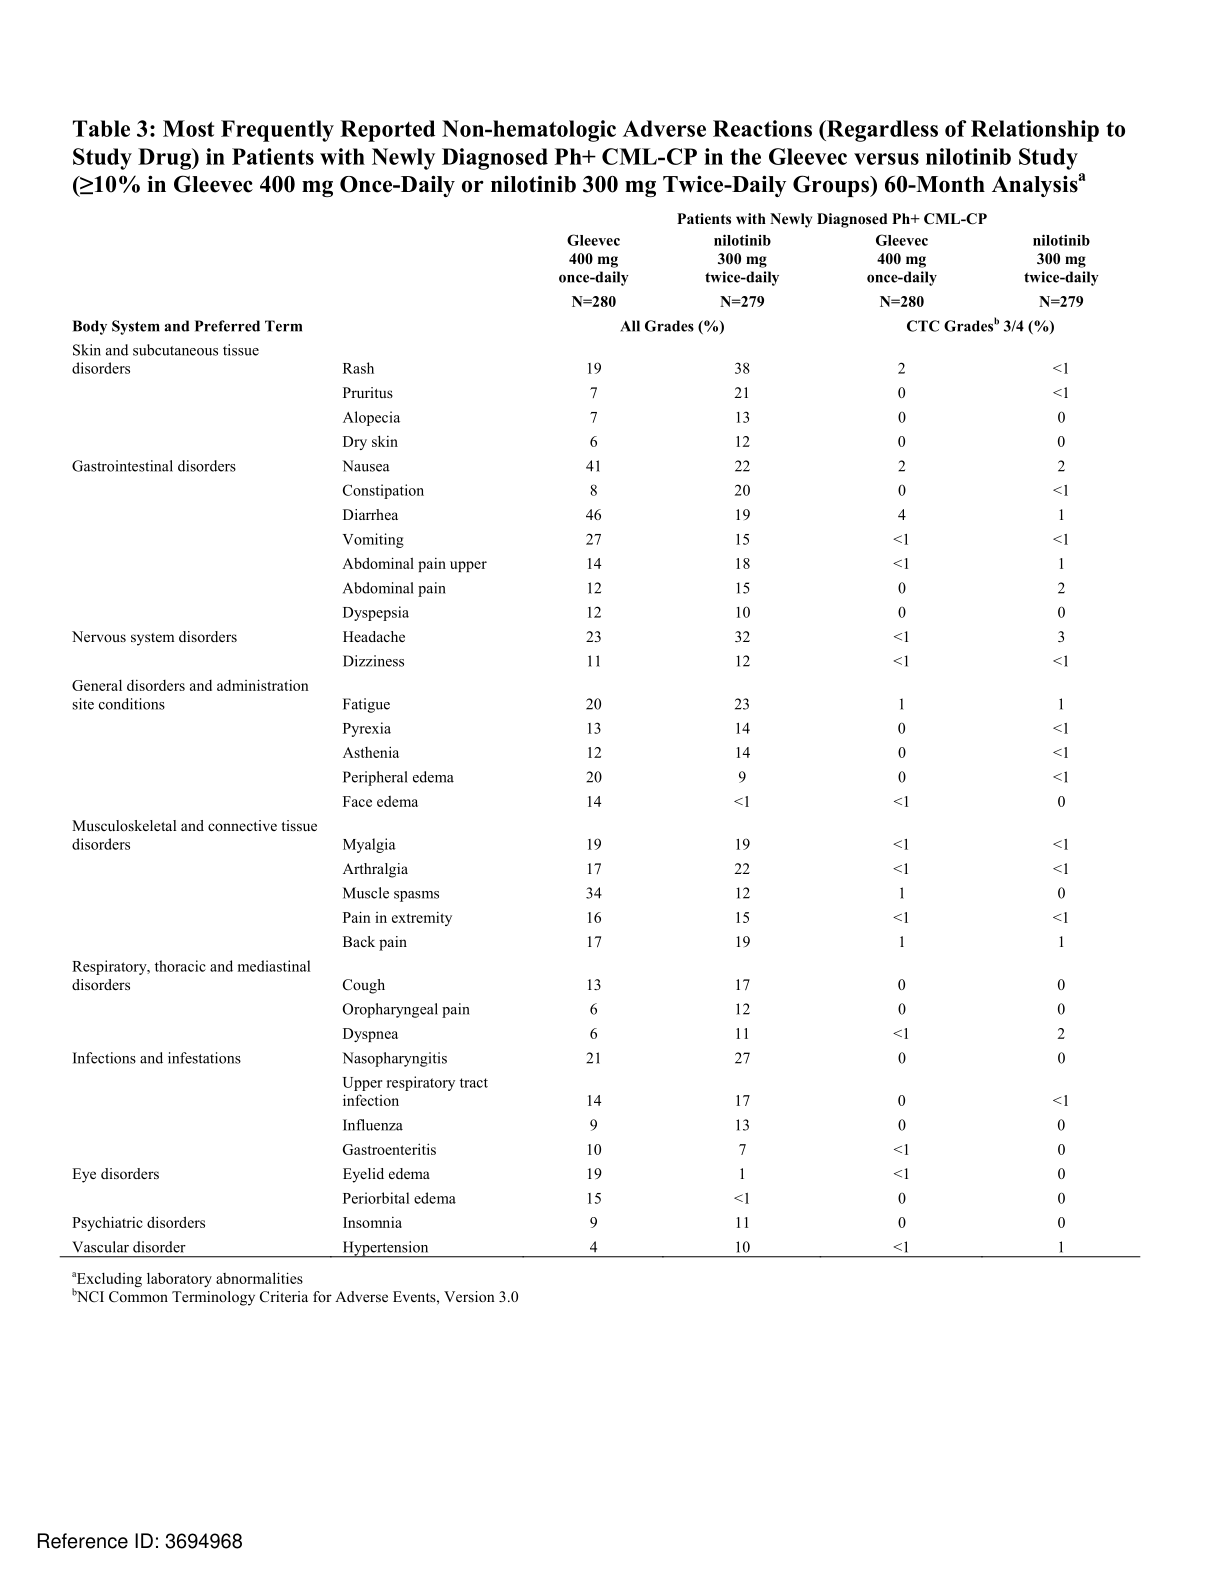nolines: (69, 206, 1101, 1254)
